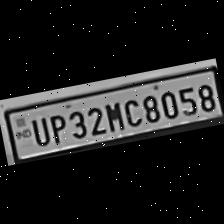0: (156, 88, 181, 120)
2: (82, 103, 108, 136)
3: (63, 106, 88, 140)
5: (174, 82, 198, 116)
8: (193, 80, 219, 114), (138, 90, 162, 124)
C: (120, 94, 142, 128)
M: (101, 99, 125, 134)
P: (44, 110, 70, 146)
U: (26, 114, 50, 148)
